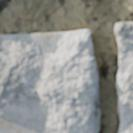brick: (0, 30, 99, 132), (115, 23, 132, 132)
crack: (2, 0, 130, 11)
